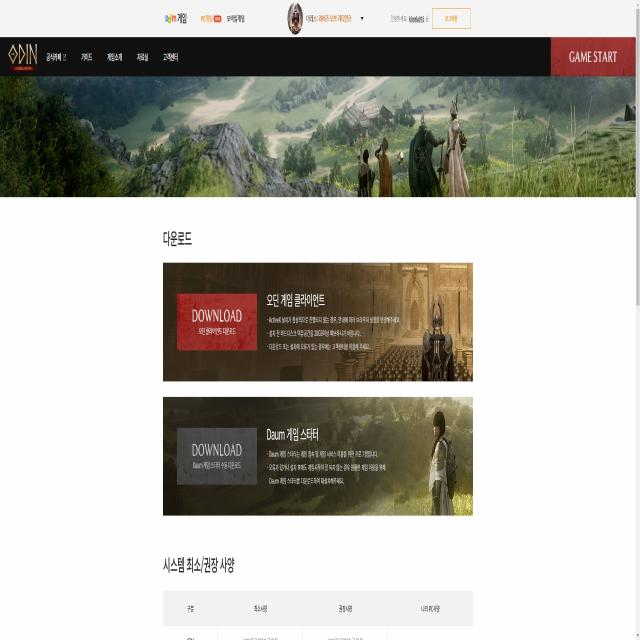menu-bar: (390, 8, 472, 28)
tab-bar: (160, 8, 247, 31)
